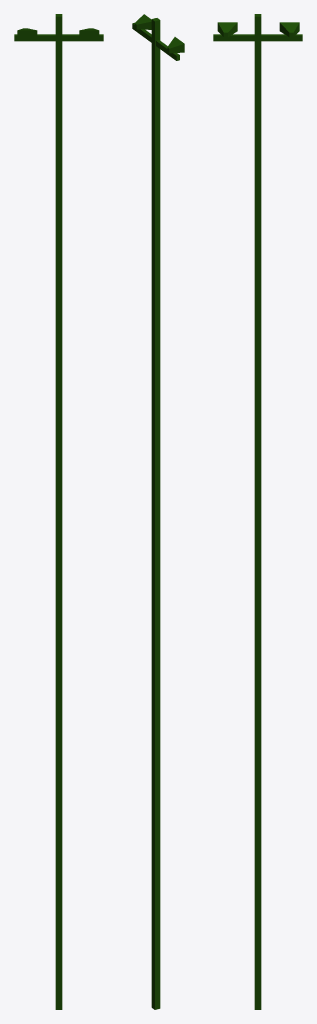
File: PoleSpeaker01.fbx
The picture shows the model from 3 angles, left to right: view 1: azimuth 90°, elevation 25°; view 2: azimuth 210°, elevation 25°; view 3: azimuth 270°, elevation 25°; orthographic projection.
Parts seen in each view (by area): view 1: PoleSpeaker01; view 2: PoleSpeaker01; view 3: PoleSpeaker01.
Part boxes in pixels (left/top/right/bottom): PoleSpeaker01: left=14, top=14, right=103, bottom=1009; PoleSpeaker01: left=132, top=14, right=184, bottom=1009; PoleSpeaker01: left=213, top=14, right=302, bottom=1009.
Bounding box in the file's own units: 0.0947 × 7.19 × 0.5842.
